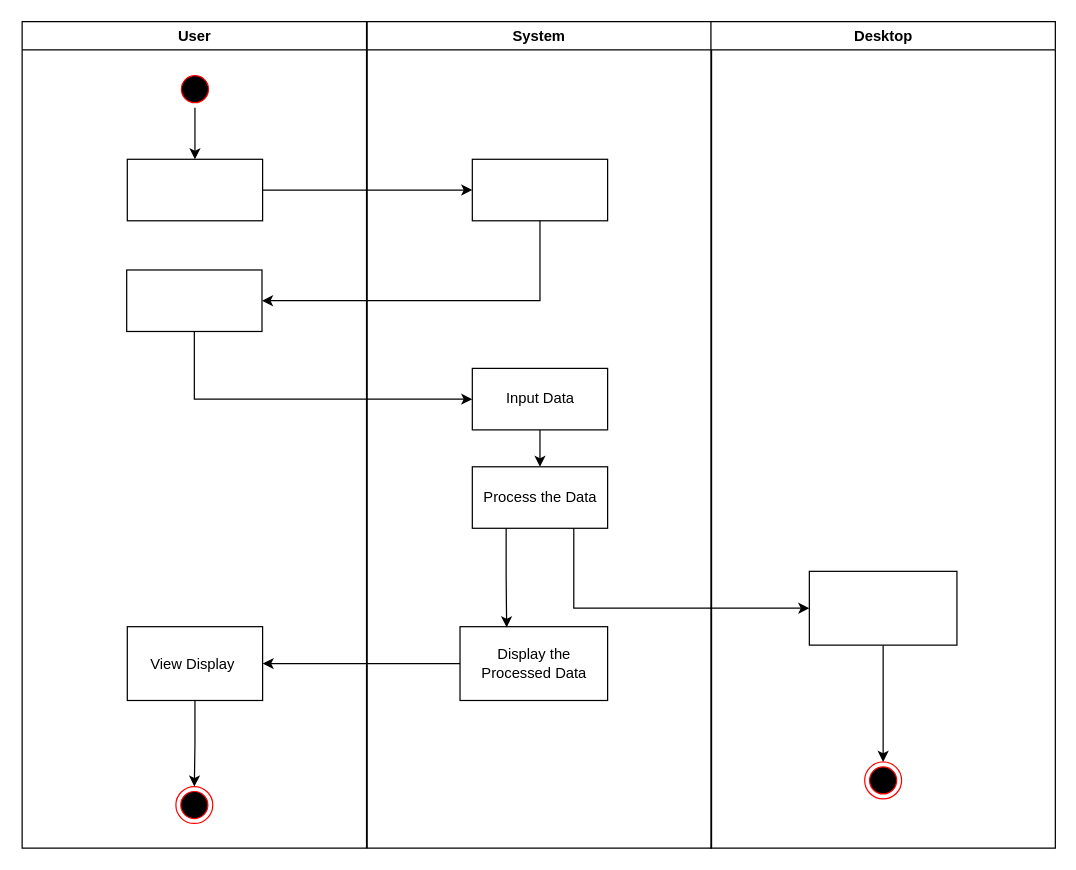
Some shapes in this 1076 by 870 pixel diagram are drawn without their labels. The shapes that lost their labels are listed below. From the top down, each one's centre as x and y in pixels, then its label:
the point at 194,189: Click Start Button
the point at 539,189: Display the Menu
the point at 193,300: Choose the Menu
the point at 882,607: Display the Notification
